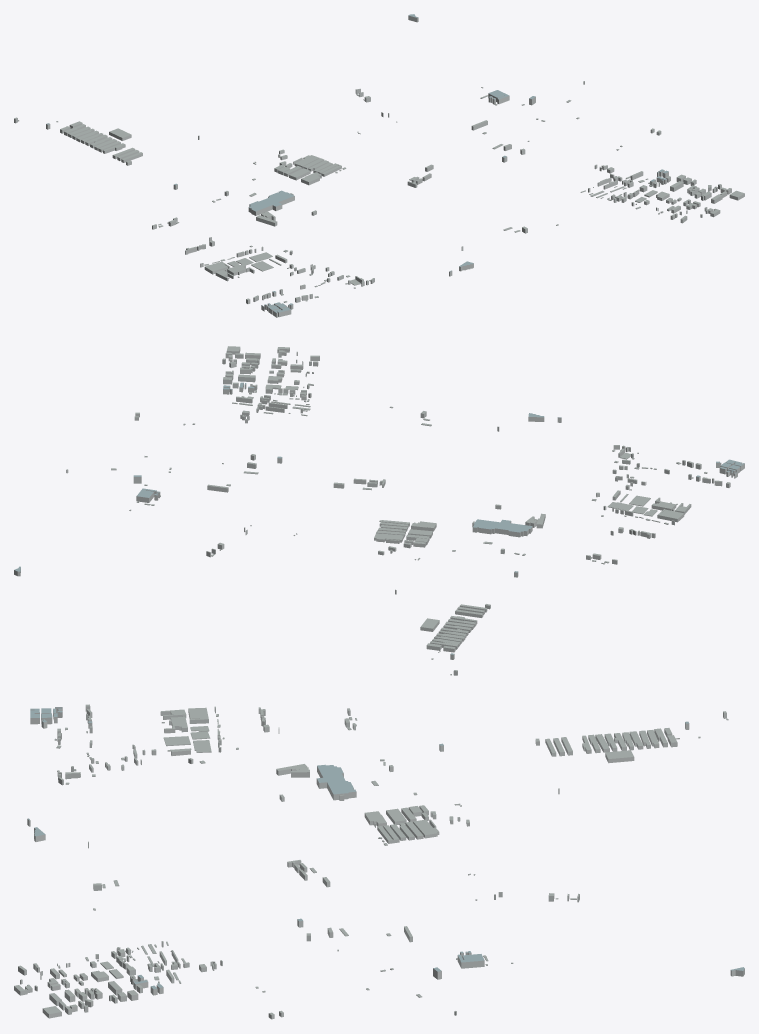
File: far.glb
3 views of the same model, one above another, from view 1: azimuth 30°, elevation 25°; view 2: azimuth 150°, elevation 25°; view 3: azimuth 270°, elevation 25° (orthographic). The views are drawn at different scales.
Bounding box in the file's own units: 2101 × 25.4 × 2096.
